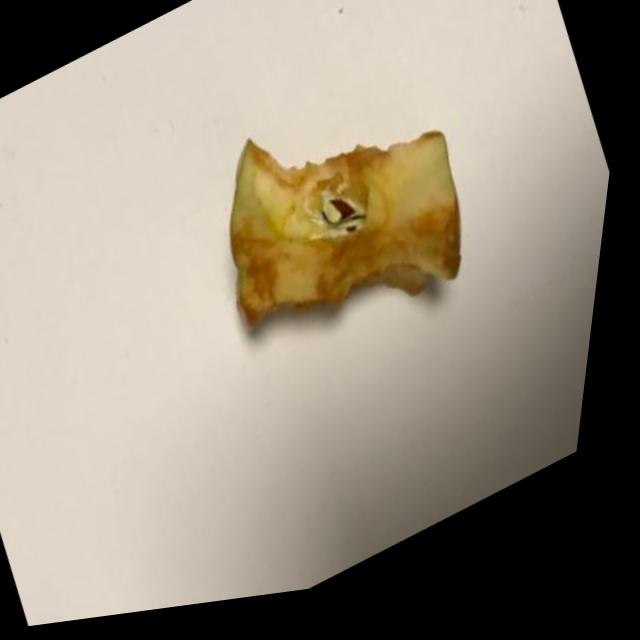trash: (113, 9, 592, 484)
